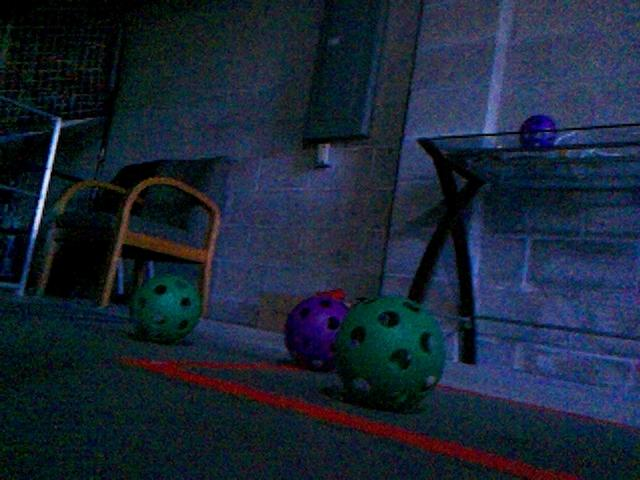Green: (331, 293, 449, 410), (127, 272, 201, 342)
Purple: (282, 289, 350, 370), (518, 113, 558, 150)
